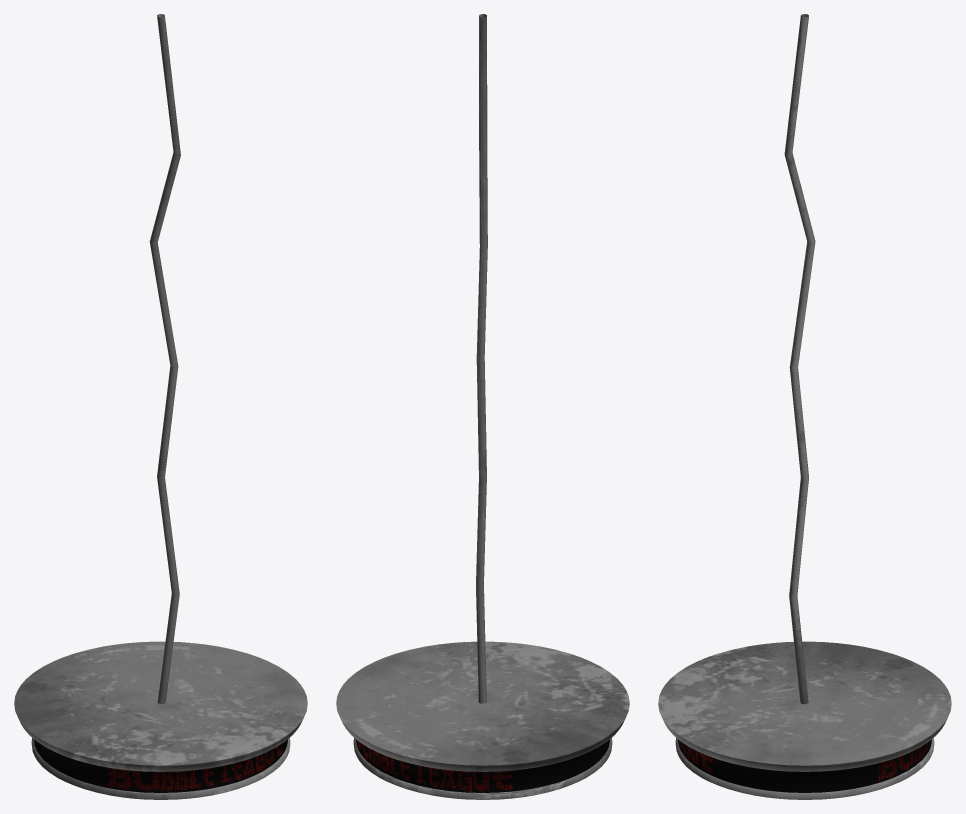
File: RoofLed.fbx
3 renders of one model, left to right at view 1: azimuth 30°, elevation 25°; view 2: azimuth 150°, elevation 25°; view 3: azimuth 270°, elevation 25°, orthographic.
Parts seen in each view (by area): view 1: Plane.002; view 2: Plane.002; view 3: Plane.002.
Part boxes in pixels (x1=…): Plane.002: x1=14, y1=14, x2=307, y2=799; Plane.002: x1=336, y1=14, x2=629, y2=799; Plane.002: x1=658, y1=14, x2=951, y2=799.
Size of the model in its own units: 0.9049 by 0.9049 by 2.48.
